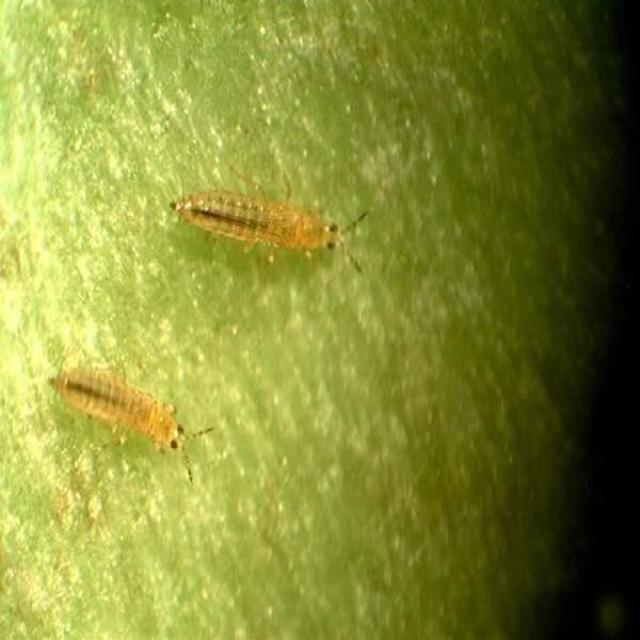Thrips: (154, 154, 402, 314), (25, 320, 214, 497)
